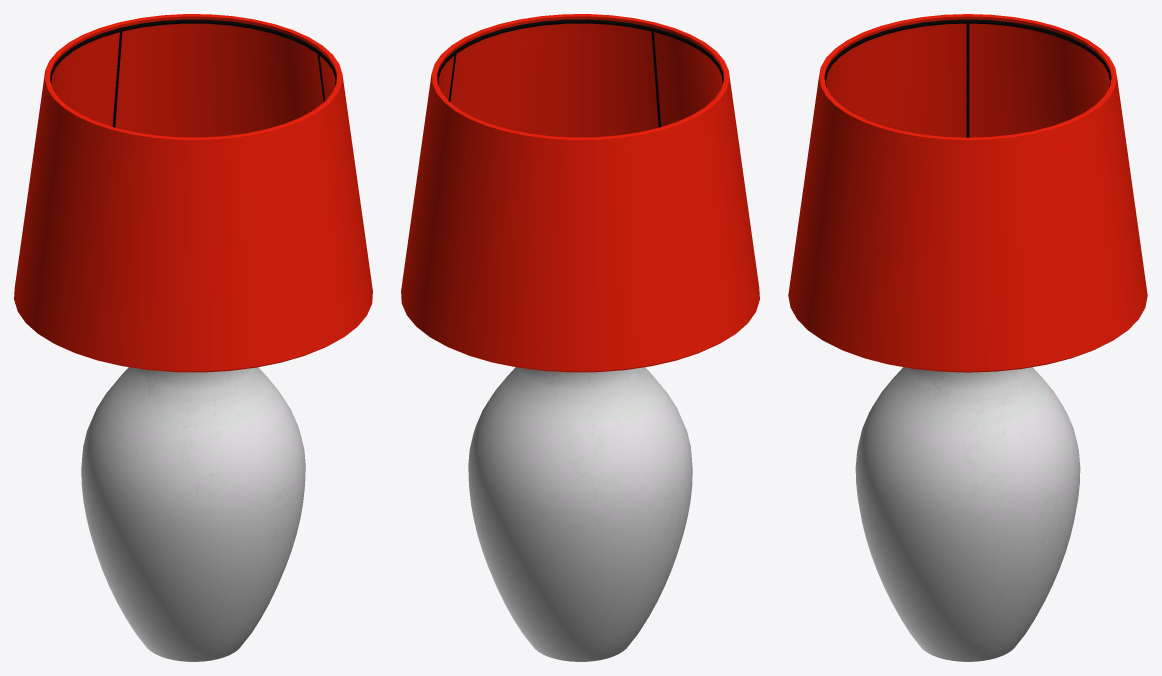
The model's file is DeskLamp.fbx.
3 views of the same model, side by side, from view 1: azimuth 30°, elevation 25°; view 2: azimuth 150°, elevation 25°; view 3: azimuth 270°, elevation 25° (orthographic).
Parts seen in each view (by area): view 1: node_id48; view 2: node_id48; view 3: node_id48.
Part boxes in pixels (<box>): node_id48: <box>14,14,372,661</box>; node_id48: <box>401,14,759,661</box>; node_id48: <box>788,14,1147,661</box>.
Bounding box in the file's own units: 0.295 × 0.512 × 0.295.
1 material, 1 textured.
